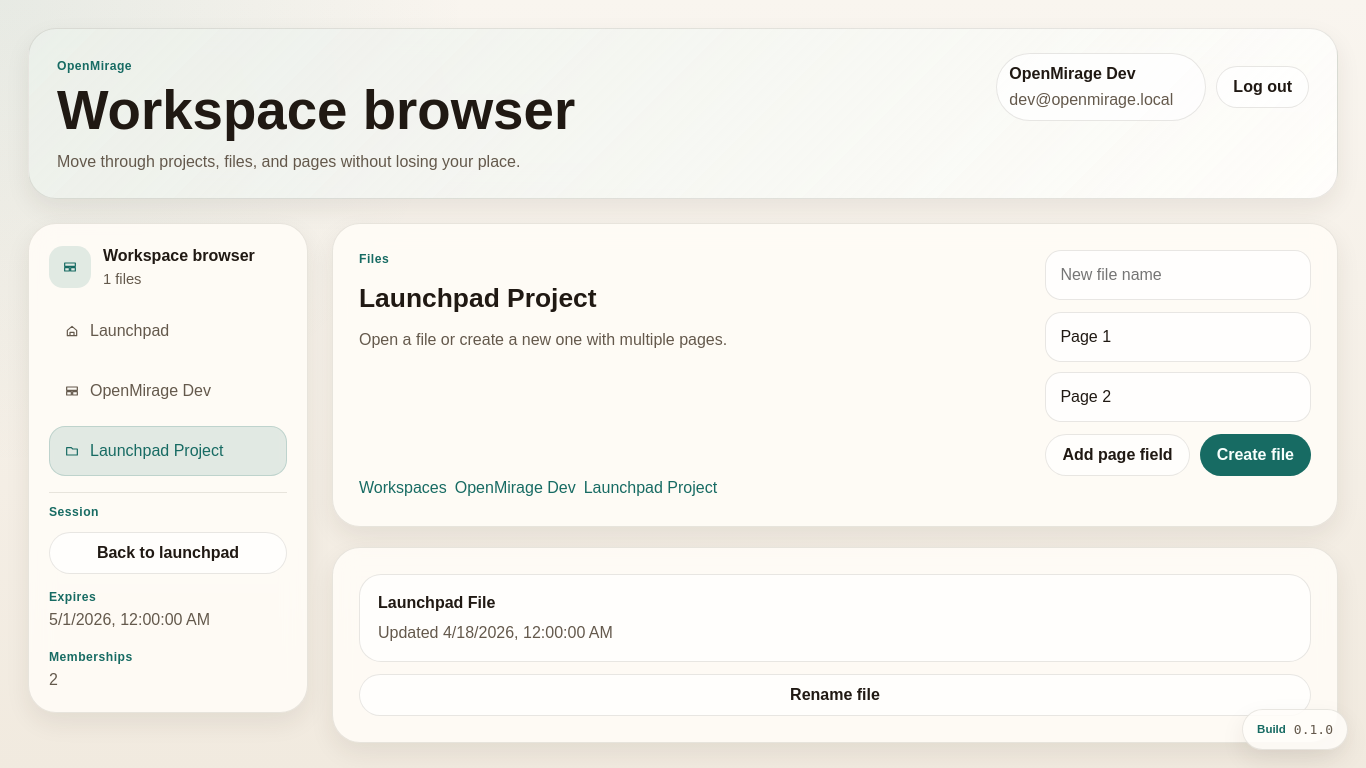
Test case: App auth and routing flows › shows fallback project form validation
Expected: the heading "Launchpad Project" is shown, [359,283,597,313]
Click the button "Create file": {"x": 1255, "y": 455} [1200,434,1311,476]
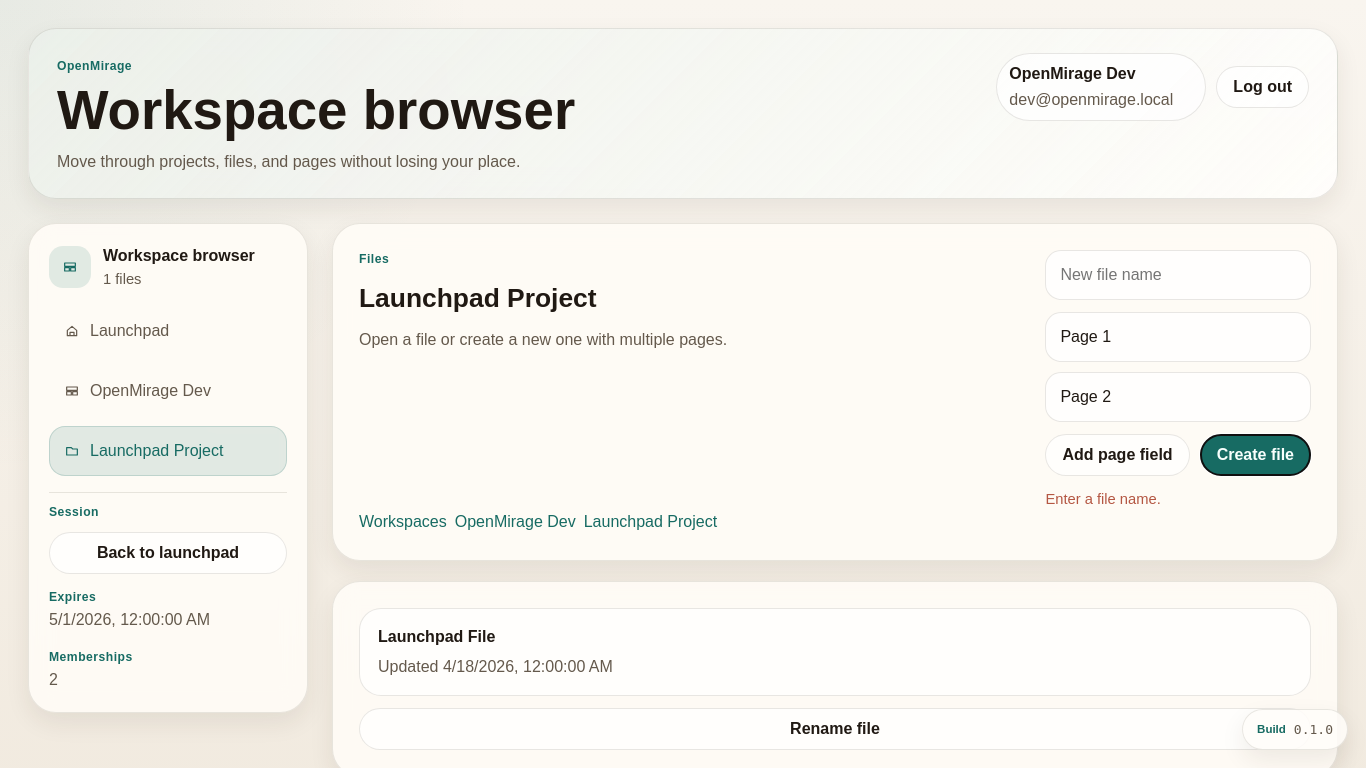
Now the text "Enter a file name." is shown, box [1045,491,1161,507]
In the field with placeholder "New file name": {"x": 1178, "y": 275} [1045,250,1311,300], type "Roadmap"
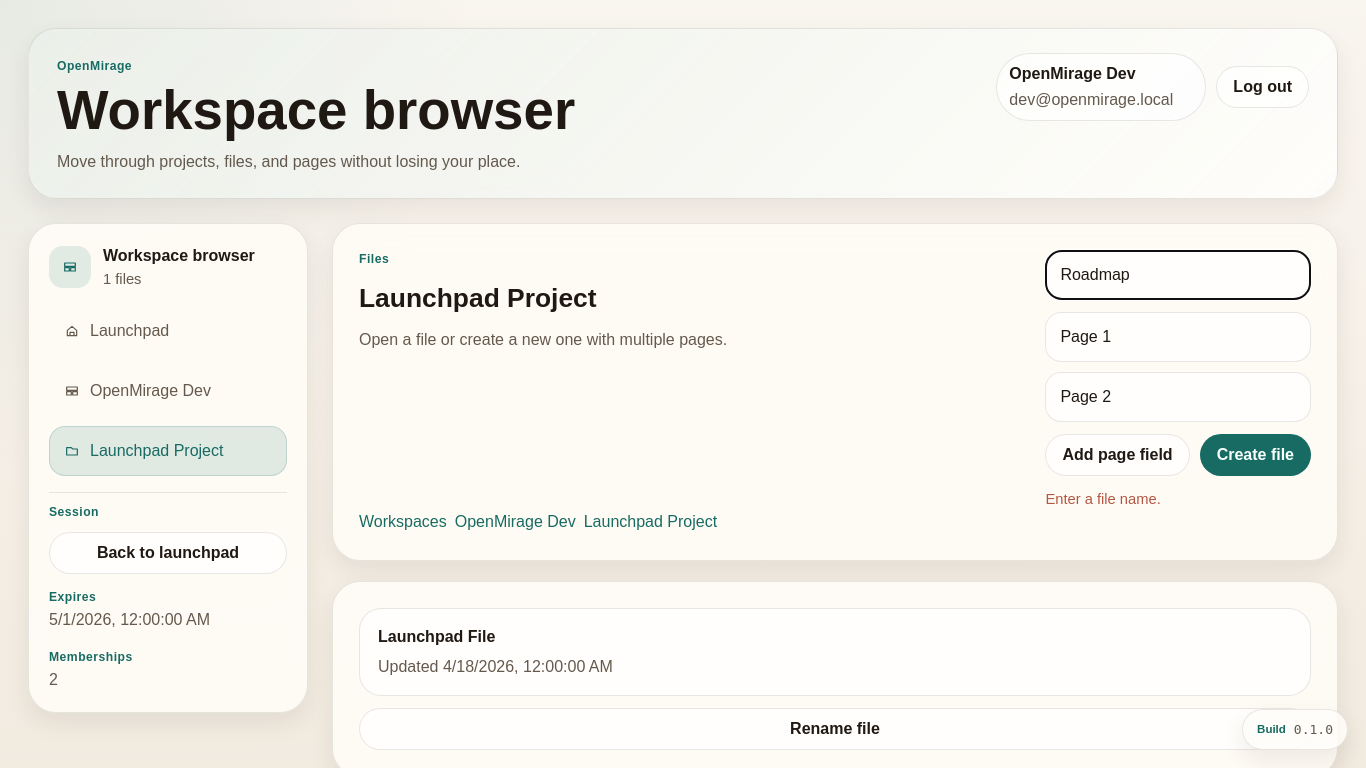
Clear the 3rd field with placeholder "Page 2": {"x": 1178, "y": 397} [1045,372,1311,422]
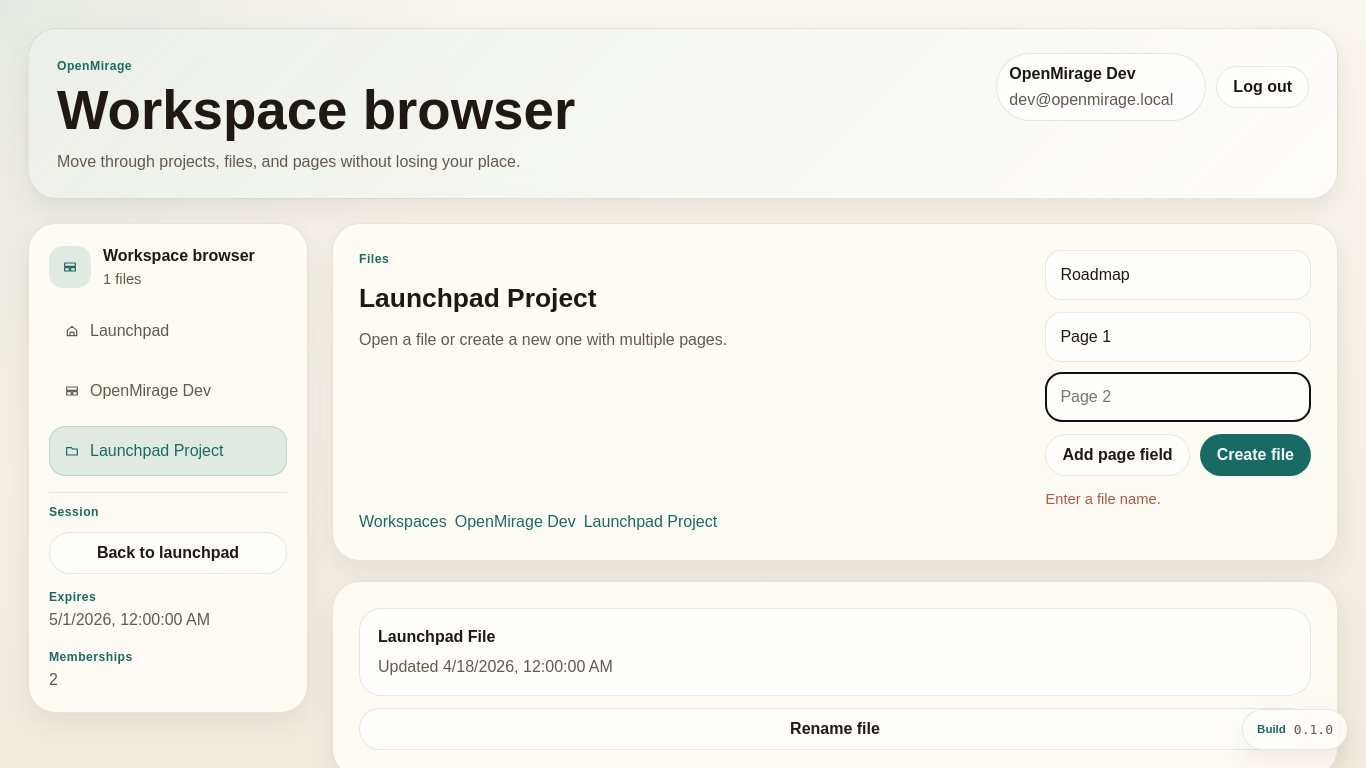
Click the button "Create file": {"x": 1255, "y": 455} [1200,434,1311,476]
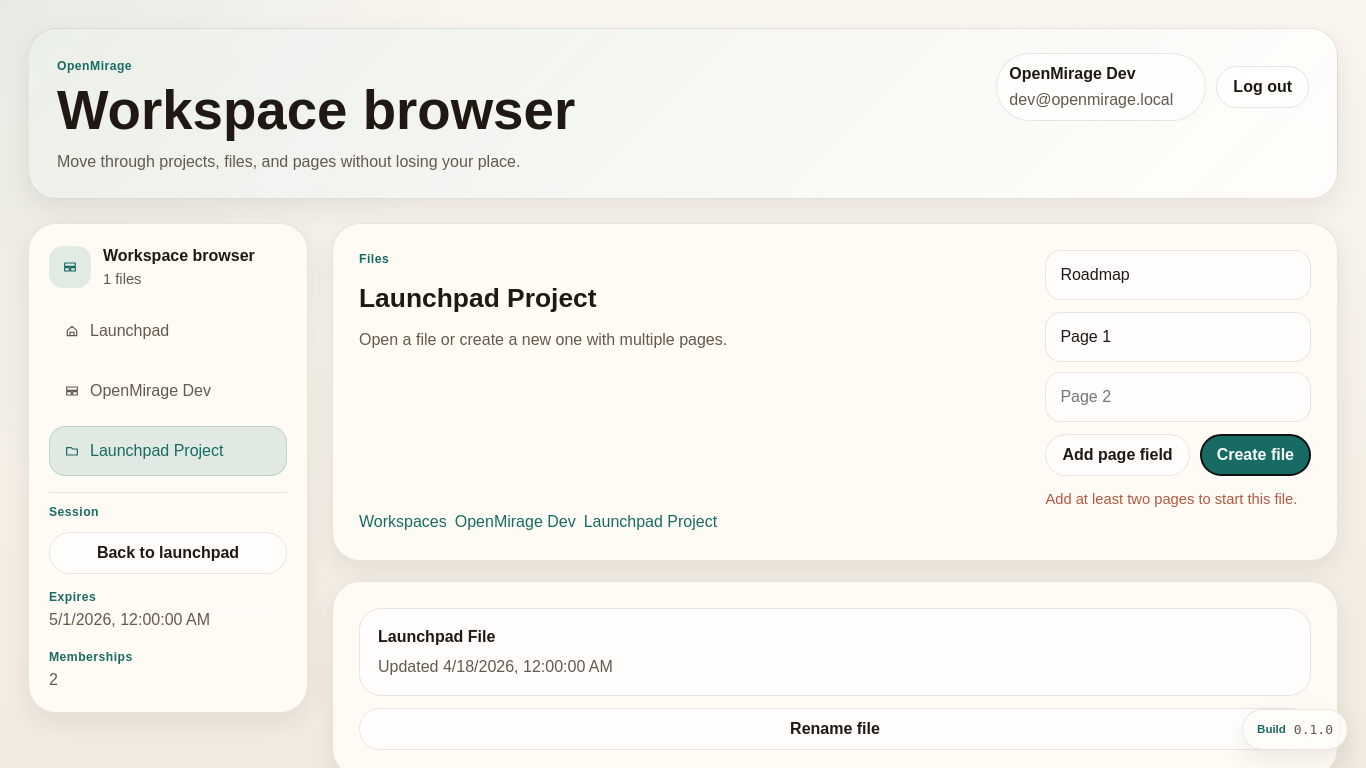
Now the text "Add at least two pages to start this file." is shown, box [1045,488,1311,510]
